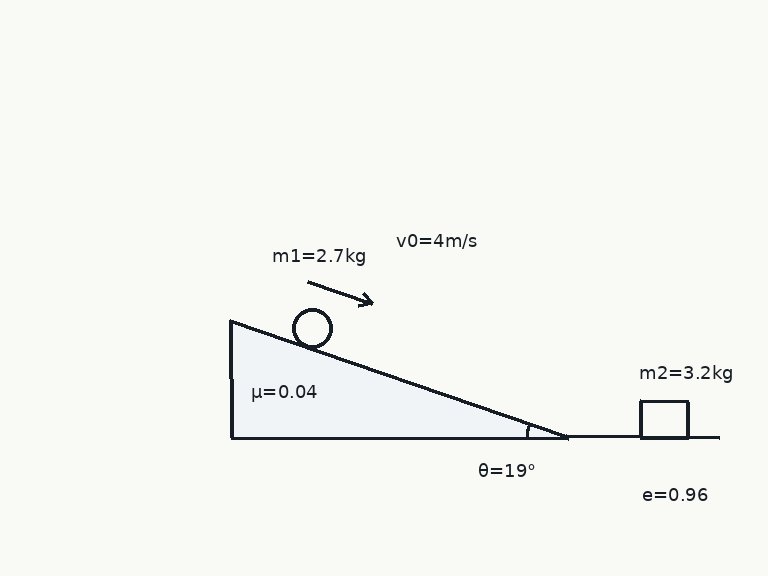ball: (290, 306, 334, 350)
block: (638, 399, 690, 439)
ramp: (228, 319, 569, 439)
